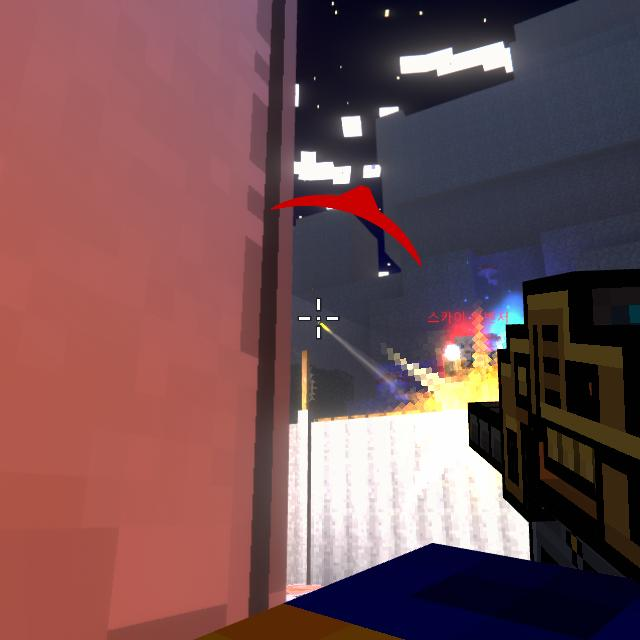Enemy: (442, 335, 479, 380)
